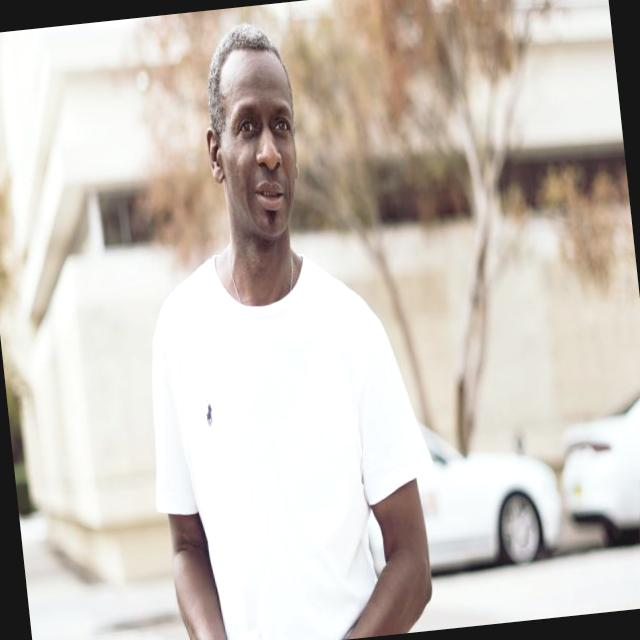person: (106, 7, 452, 640)
